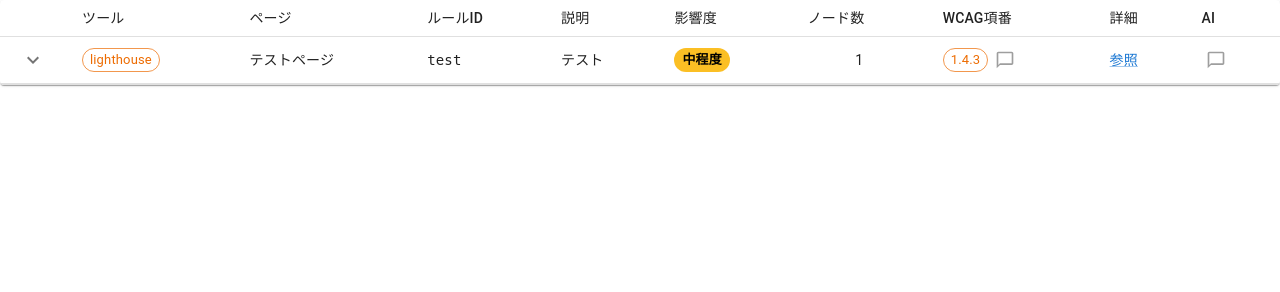
フロントエンド統合テスト (Task 12.2) › タブ切り替え時のUI一貫性 (Req 4.3) › IncompleteTable › NodeDetails展開機能がある
Click the button named "ノード情報を展開": (33, 60) [16,43,50,77]
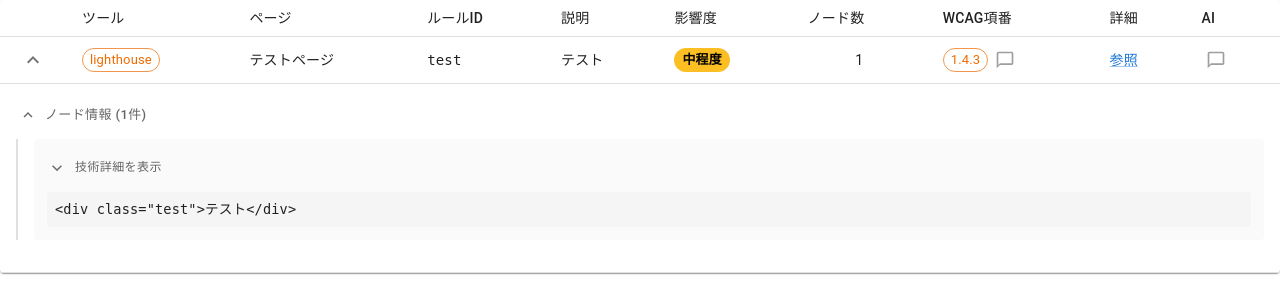
Now the text "<div class=\"test\">テスト</div>" is shown, box [47,192,1251,227]
